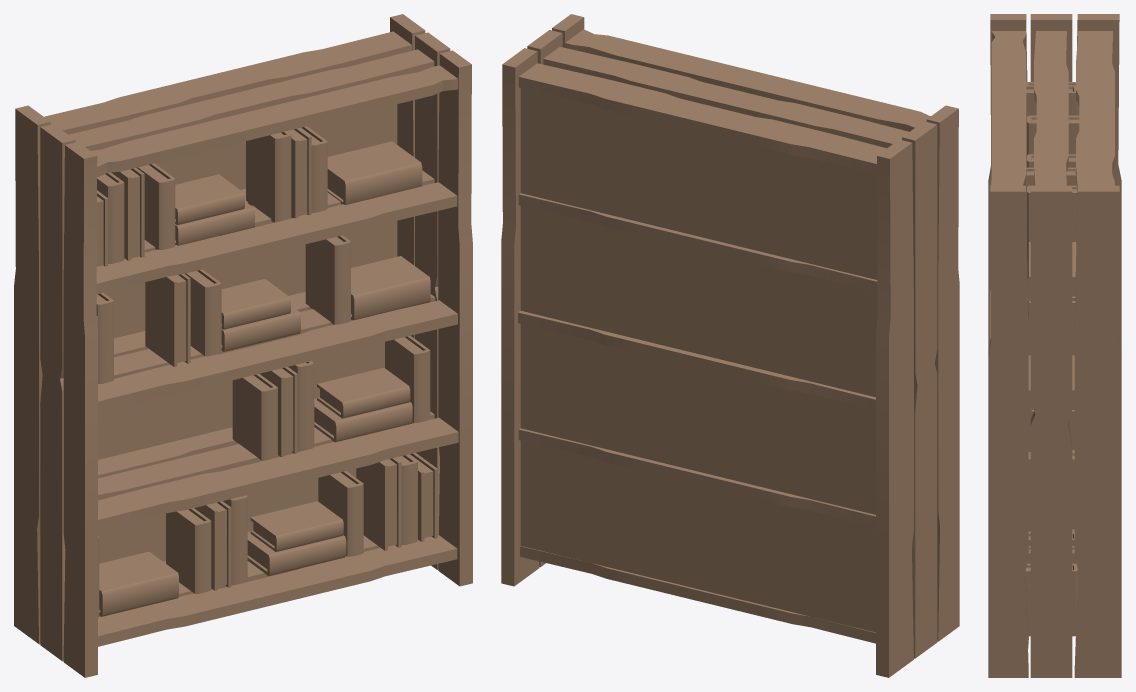
File: Bookcase_Full.glb
The picture shows the model from 3 angles, left to right: view 1: azimuth 30°, elevation 25°; view 2: azimuth 150°, elevation 25°; view 3: azimuth 270°, elevation 25°; orthographic projection. The views are drawn at different scales.
Visible parts, largest first — view 1: Bookcase_Full; view 2: Bookcase_Full; view 3: Bookcase_Full.
Part boxes in pixels (x1=…): Bookcase_Full: x1=14, y1=14, x2=472, y2=677; Bookcase_Full: x1=501, y1=14, x2=959, y2=677; Bookcase_Full: x1=988, y1=14, x2=1121, y2=677.
Bounding box in the file's own units: 2.08 × 2.65 × 0.6582.
